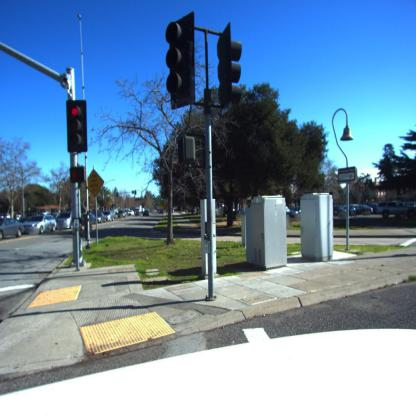car: (19, 214, 54, 235), (377, 200, 414, 219), (0, 217, 27, 239), (55, 212, 72, 230), (350, 204, 374, 216), (40, 214, 56, 232), (100, 211, 113, 222), (126, 210, 136, 217), (143, 207, 150, 216)
